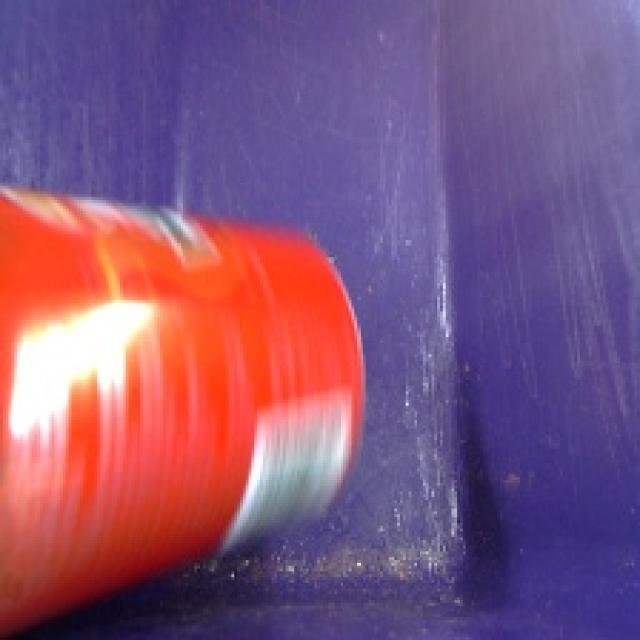metal: (0, 161, 394, 640)
